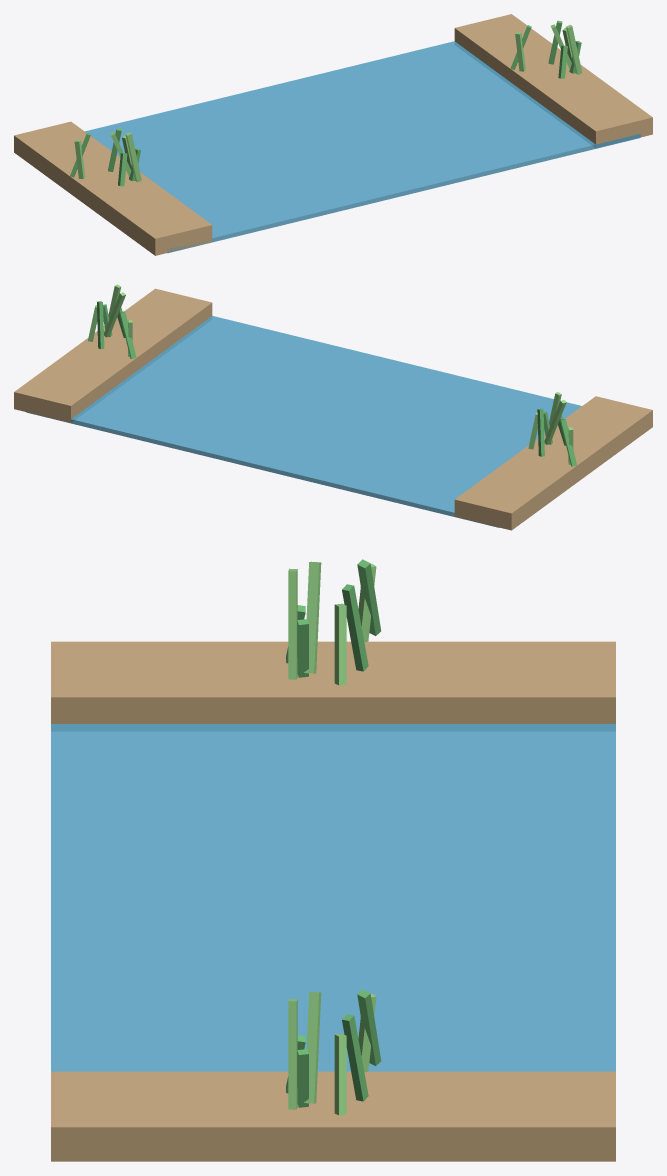
The model's file is river_gap_kit.glb.
3 views of the same model, one above another, from view 1: azimuth 30°, elevation 25°; view 2: azimuth 150°, elevation 25°; view 3: azimuth 270°, elevation 25° (orthographic). The views are drawn at different scales.
Visible parts, largest first — view 1: river_gap_kit; view 2: river_gap_kit; view 3: river_gap_kit.
Boxes of the visible parts, x1,y1,x2,y2 form: river_gap_kit: (14, 14, 652, 255); river_gap_kit: (14, 284, 652, 530); river_gap_kit: (51, 559, 615, 1161).
Size of the model in its own units: 6.16 by 0.8247 by 3.
